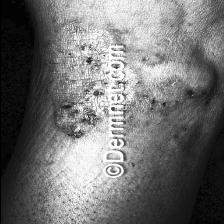Non-Cancerous Skin Condition: (128, 28, 216, 124), (44, 34, 96, 152)
